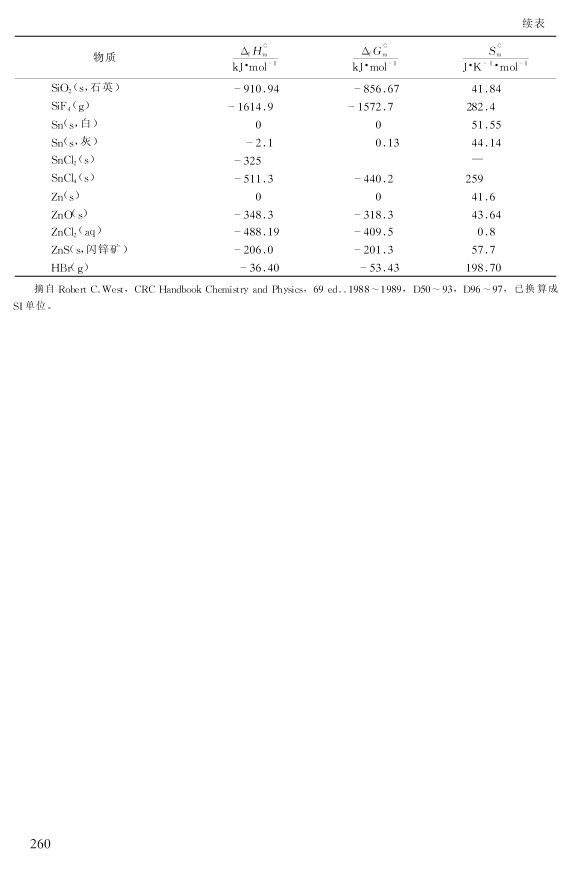table: (14, 35, 556, 277)
